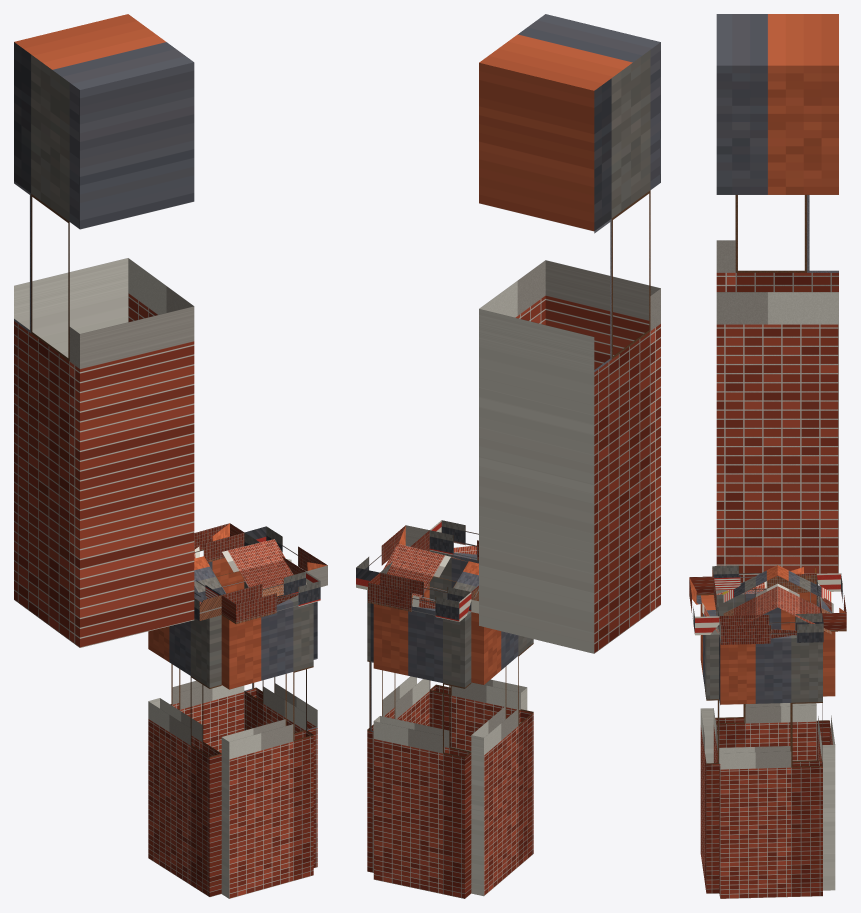
The picture shows the model from 3 angles, left to right: view 1: azimuth 30°, elevation 25°; view 2: azimuth 150°, elevation 25°; view 3: azimuth 270°, elevation 25°; orthographic projection. The views are drawn at different scales.
Visible parts, largest first — view 1: 1107107798__chimney_0_xb, 1107107798__wall_2_xb, 1107107798__wall_3_xb, 1107107798__wall_0_xb, 1107107798__wall_1_xb, 1107107798_roof_-1_xb, 1107107798__cornice_2, 1107107798__cornice_0, 1107107798__cornice_1, 1107107798__cornice_3; view 2: 1107107798__chimney_0_xb, 1107107798__wall_0_xb, 1107107798__wall_3_xb, 1107107798__wall_2_xb, 1107107798__wall_1_xb, 1107107798__cornice_0, 1107107798_roof_1_xb, 1107107798__cornice_1, 1107107798__cornice_2; view 3: 1107107798__chimney_0_xb, 1107107798__wall_1_xb, 1107107798__wall_3_xb, 1107107798__wall_2_xb, 1107107798__wall_0_xb, 1107107798__cornice_1, 1107107798_roof_-1_xb, 1107107798_roof_1_xb, 1107107798__cornice_3, 1107107798__cornice_2, 1107107798__cornice_0.
Boxes of the visible parts, x1,y1,x2,y2 form: 1107107798__chimney_0_xb: [14, 14, 194, 647]; 1107107798__wall_2_xb: [221, 595, 313, 898]; 1107107798__wall_3_xb: [148, 615, 221, 896]; 1107107798__wall_0_xb: [170, 558, 244, 753]; 1107107798__wall_1_xb: [244, 580, 317, 867]; 1107107798_roof_-1_xb: [194, 539, 293, 600]; 1107107798__cornice_2: [221, 571, 320, 624]; 1107107798__cornice_0: [194, 523, 244, 562]; 1107107798__cornice_1: [244, 526, 327, 586]; 1107107798__cornice_3: [194, 580, 221, 620]; 1107107798__chimney_0_xb: [479, 14, 660, 653]; 1107107798__wall_0_xb: [373, 604, 471, 898]; 1107107798__wall_3_xb: [471, 612, 533, 896]; 1107107798__wall_2_xb: [429, 550, 527, 751]; 1107107798__wall_1_xb: [367, 550, 429, 872]; 1107107798__cornice_0: [368, 572, 471, 621]; 1107107798_roof_1_xb: [383, 544, 478, 605]; 1107107798__cornice_1: [356, 525, 429, 589]; 1107107798__cornice_2: [429, 520, 478, 560]; 1107107798__chimney_0_xb: [716, 14, 838, 583]; 1107107798__wall_1_xb: [719, 635, 822, 898]; 1107107798__wall_3_xb: [715, 589, 816, 760]; 1107107798__wall_2_xb: [700, 595, 719, 893]; 1107107798__wall_0_xb: [816, 595, 835, 890]; 1107107798__cornice_1: [719, 613, 823, 644]; 1107107798_roof_-1_xb: [723, 565, 777, 625]; 1107107798_roof_1_xb: [777, 565, 831, 634]; 1107107798__cornice_3: [712, 565, 816, 594]; 1107107798__cornice_2: [689, 576, 719, 635]; 1107107798__cornice_0: [816, 573, 846, 631].
Size of the model in its own units: 0.3288 by 1.05 by 0.1927.
Materials: 1 (1 with a texture image).
